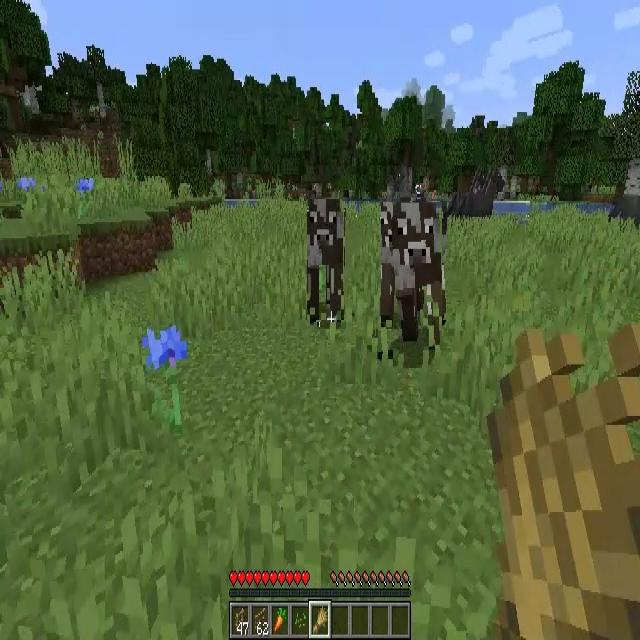cow: (381, 202, 442, 350), (307, 199, 344, 322)
flower: (140, 324, 188, 380), (76, 178, 94, 220)
